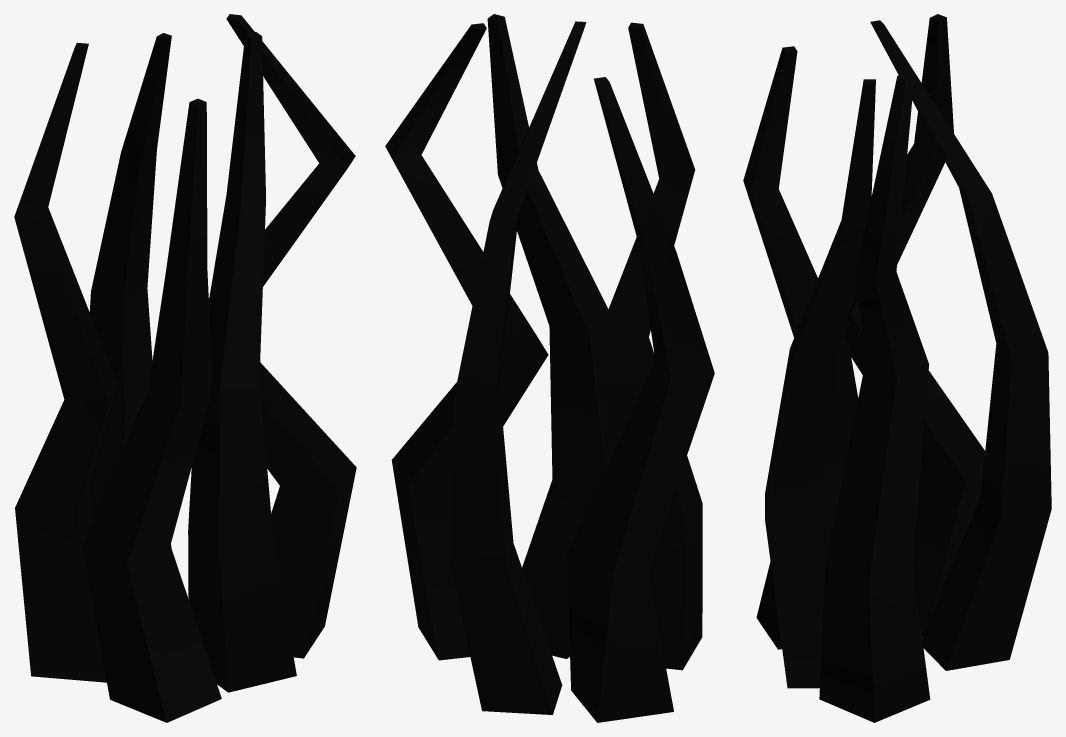
The model's file is Grass_3.fbx.
3 views of the same model, side by side, from view 1: azimuth 30°, elevation 25°; view 2: azimuth 150°, elevation 25°; view 3: azimuth 270°, elevation 25° (orthographic). The views are drawn at different scales.
Visible parts, largest first — view 1: Grass_3; view 2: Grass_3; view 3: Grass_3.
Part boxes in pixels (x1,y1,x2,y2): Grass_3: (14, 14, 356, 722); Grass_3: (385, 14, 714, 722); Grass_3: (743, 14, 1051, 722).
Bounding box in the file's own units: 50.67 × 97.23 × 43.65.
